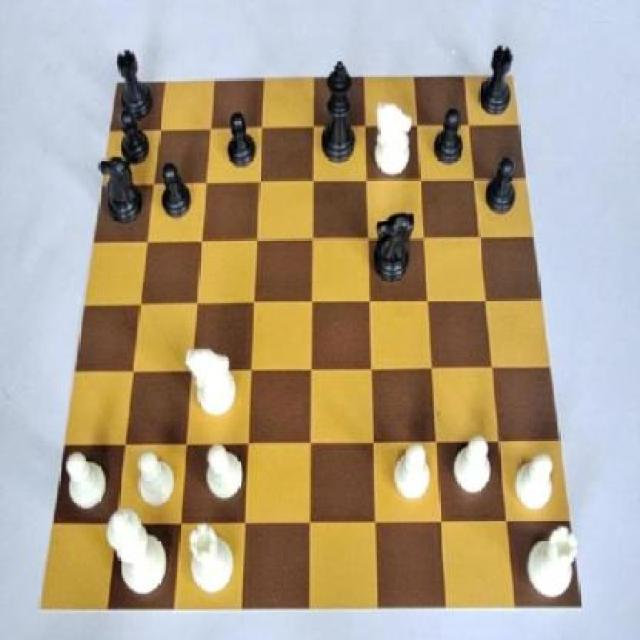black-bishop: (320, 56, 362, 172)
black-king: (370, 204, 422, 294), (94, 152, 141, 230)
black-knight: (160, 157, 198, 228), (116, 106, 154, 172), (222, 111, 259, 175), (432, 106, 466, 174), (485, 152, 519, 218)
black-queen: (111, 46, 156, 127), (477, 40, 518, 122)
white-bishop: (105, 511, 172, 603)
white-king: (183, 340, 242, 423), (371, 94, 422, 180)
white-knight: (446, 431, 496, 507), (198, 443, 251, 514), (58, 444, 107, 518), (132, 444, 178, 518), (389, 443, 434, 511), (517, 448, 558, 515)
white-queen: (523, 514, 582, 598), (186, 520, 242, 603)
